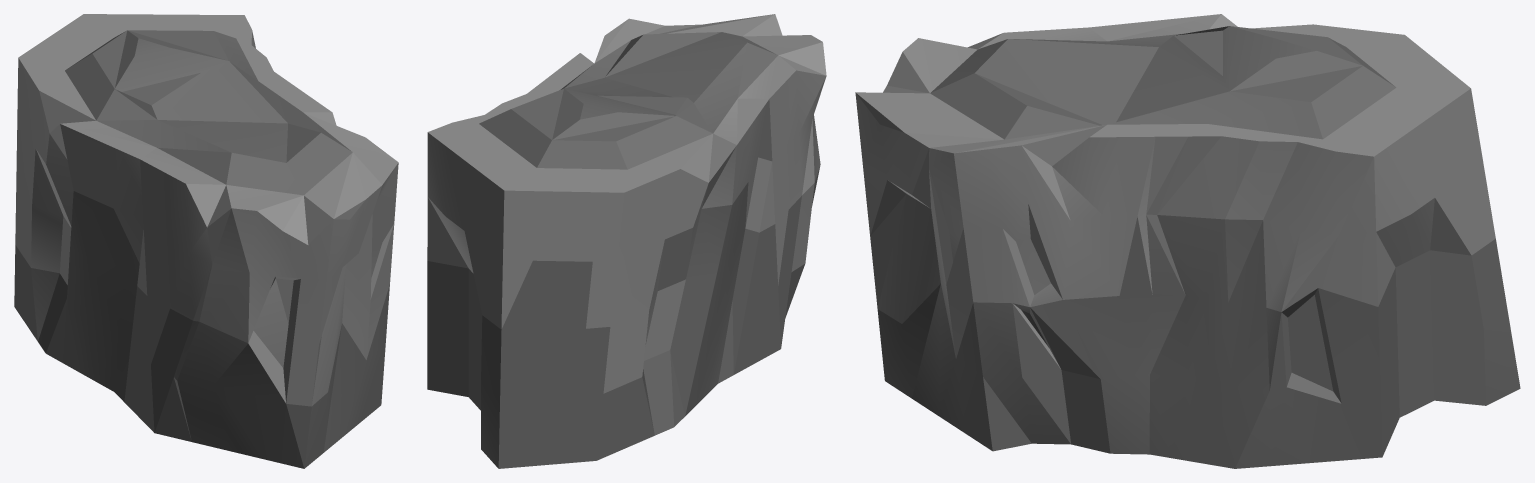
Rendered from SpaceRock3.glb.
The picture shows the model from 3 angles, left to right: view 1: azimuth 30°, elevation 25°; view 2: azimuth 150°, elevation 25°; view 3: azimuth 270°, elevation 25°; orthographic projection. The views are drawn at different scales.
Visible parts, largest first — view 1: cliff_1; view 2: cliff_1; view 3: cliff_1.
Part boxes in pixels (x1,y1,x2,y2): cliff_1: [14, 14, 398, 468]; cliff_1: [427, 14, 826, 468]; cliff_1: [855, 14, 1520, 468].
Size of the model in its own units: 9.16 by 10.03 by 17.73.
Materials: 1 (1 with a texture image).
